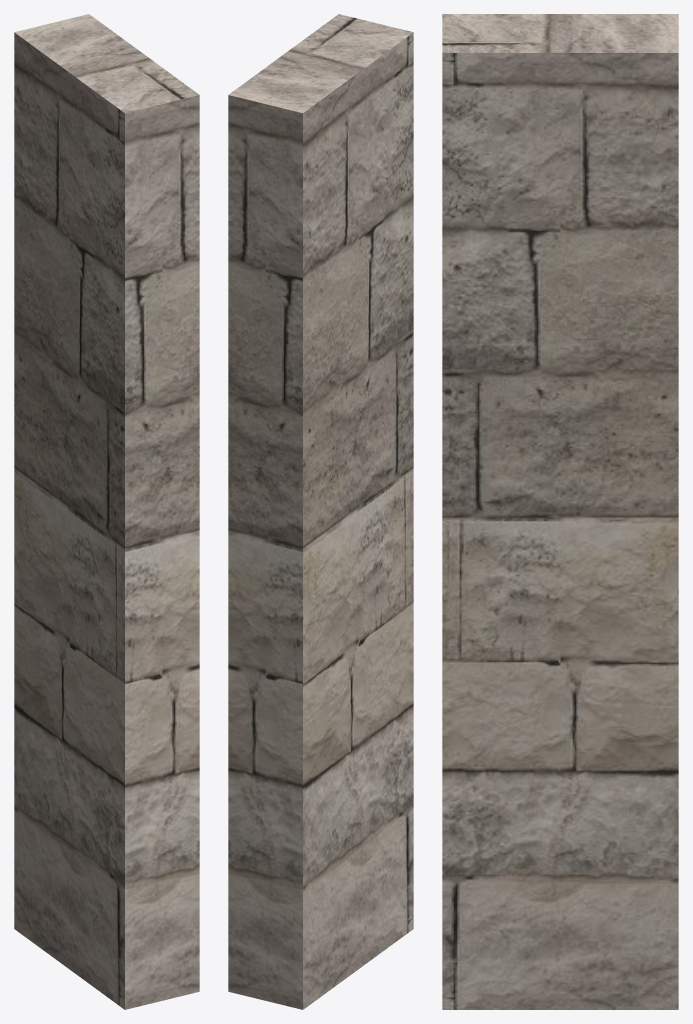
The model's file is stair_portal_jamb.glb.
The picture shows the model from 3 angles, left to right: view 1: azimuth 30°, elevation 25°; view 2: azimuth 150°, elevation 25°; view 3: azimuth 270°, elevation 25°; orthographic projection. The views are drawn at different scales.
Visible parts, largest first — view 1: Deep portal jamb; view 2: Deep portal jamb; view 3: Deep portal jamb.
Boxes of the visible parts, left/top/right/bottom form: Deep portal jamb: left=14, top=14, right=199, bottom=1009; Deep portal jamb: left=228, top=14, right=413, bottom=1009; Deep portal jamb: left=442, top=14, right=678, bottom=1009.
Size of the model in its own units: 0.25 by 2.86 by 0.64.
Materials: 1 (1 with a texture image).
